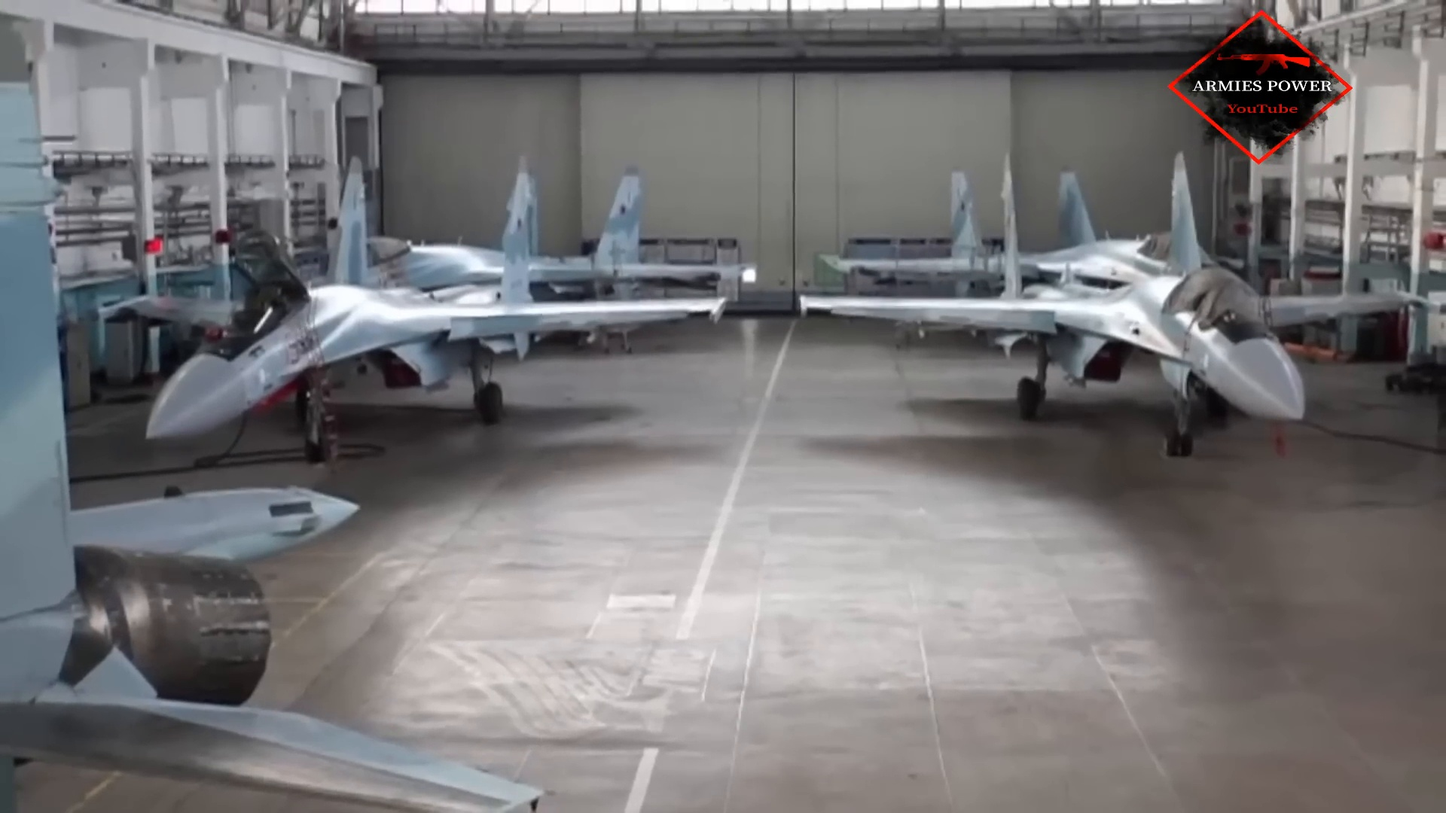Su35: (797, 151, 1446, 457), (107, 171, 727, 459), (823, 167, 1313, 350), (292, 166, 741, 339)
